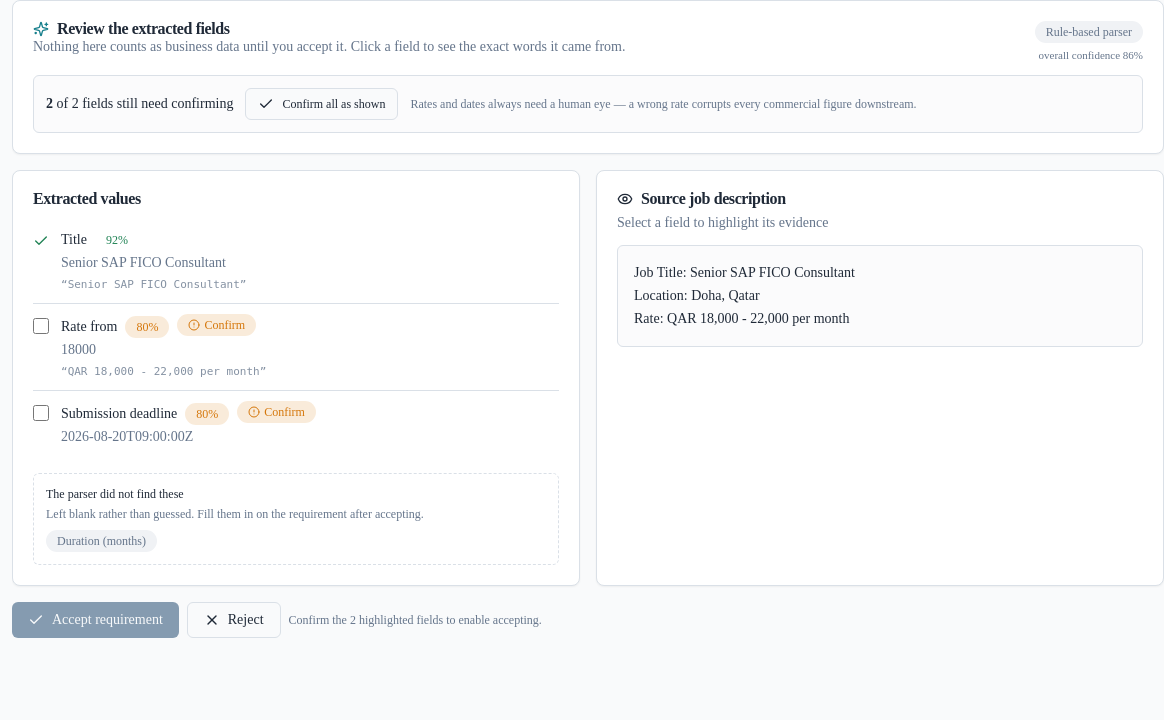
Test: parse review › surfaces a server rejection instead of failing silently
Expected: the heading "Review the extracted fields" is shown, [33,20,230,37]
Click the button "Confirm all as shown": (322, 104) [245,88,398,120]
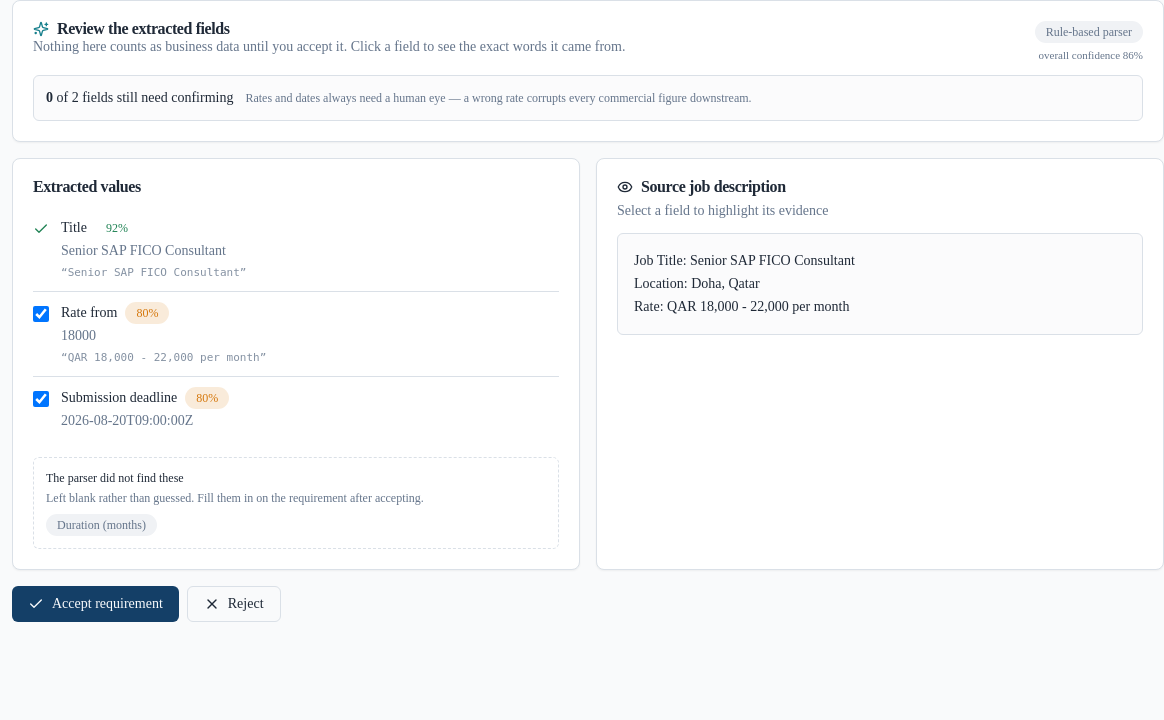
Click the button "Accept requirement": (95, 604) [12,586,179,622]
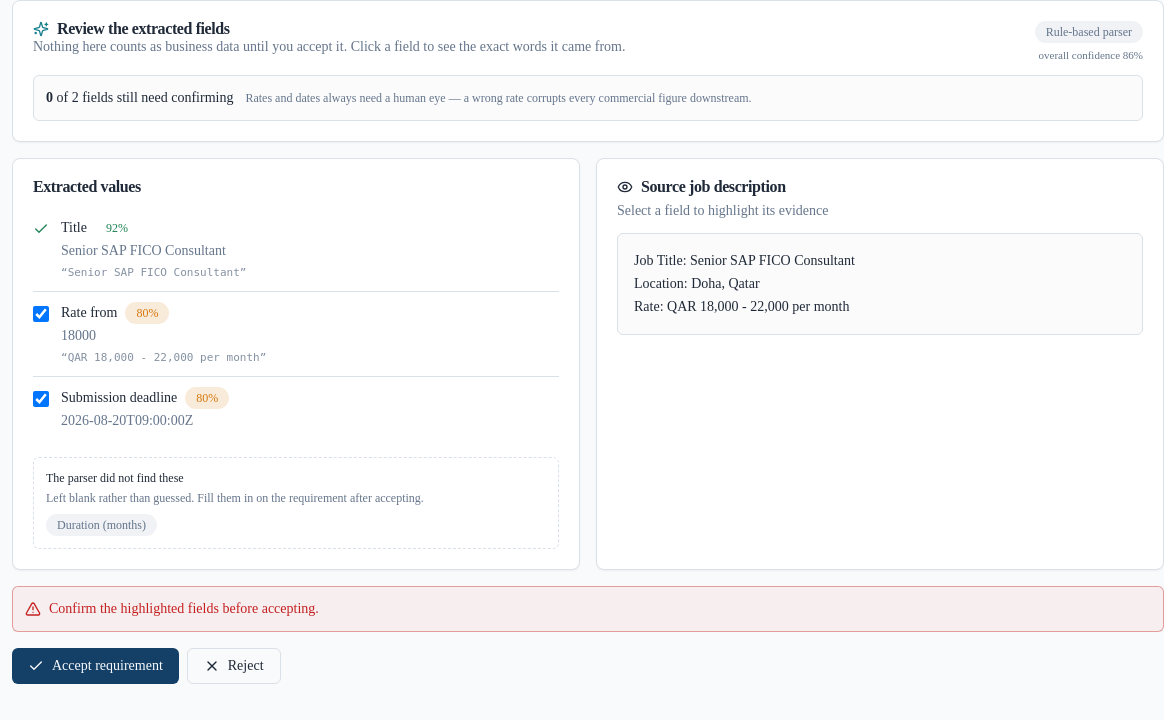
Expected: the message reads "Confirm the highlighted fields before accepting.", [49,601,319,616]
